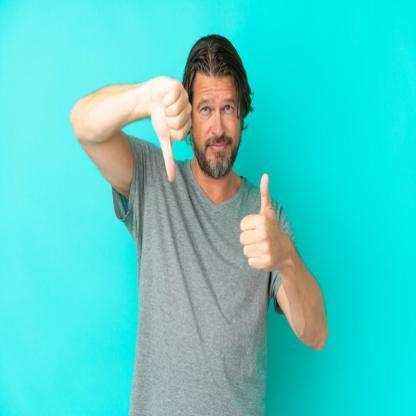thumb_down: (147, 67, 194, 186)
thumb_up: (236, 168, 288, 280)
